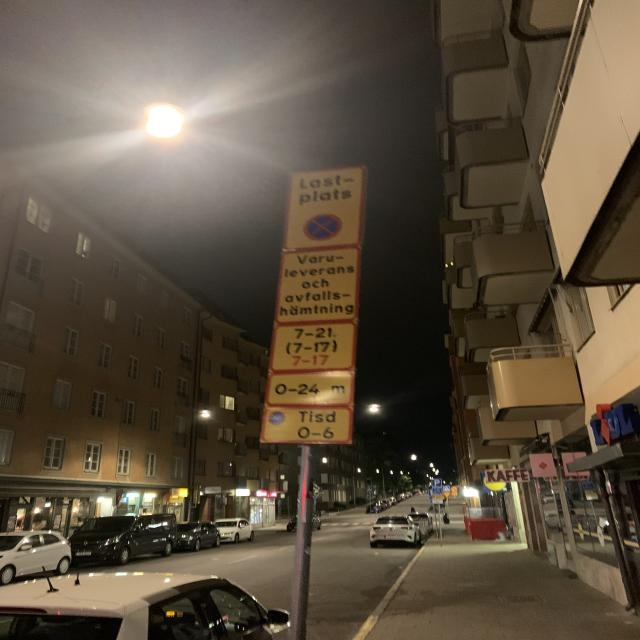lastplats: (283, 167, 364, 249)
